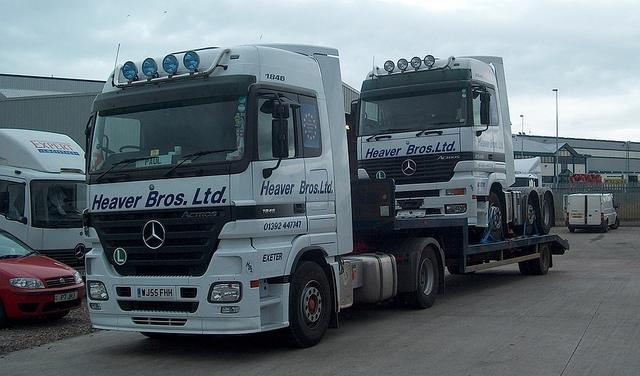car: (1, 230, 83, 324)
truck: (90, 44, 574, 344), (352, 55, 552, 238), (1, 129, 86, 284), (566, 194, 617, 230)
